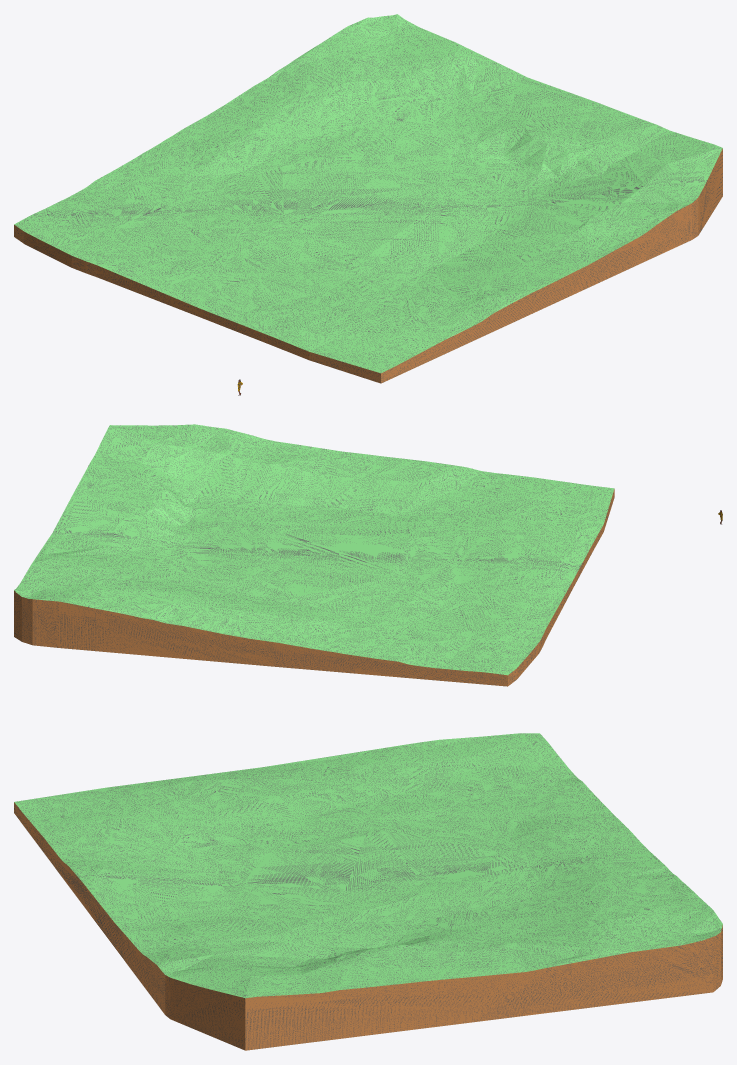
File: teren.dae
3 renders of one model, top to bottom at view 1: azimuth 30°, elevation 25°; view 2: azimuth 150°, elevation 25°; view 3: azimuth 270°, elevation 25°, orthographic. The views are drawn at different scales.
Parts seen in each view (by area): view 1: skp2E2E (×2); view 2: skp2E2E (×2); view 3: skp2E2E (×2).
Part boxes in pixels (bbox=[...]): skp2E2E (×2): bbox=[14, 14, 722, 383]; skp2E2E (×2): bbox=[14, 424, 614, 686]; skp2E2E (×2): bbox=[14, 733, 722, 1050].
Bounding box in the file's own units: 2460 × 2398 × 208.
